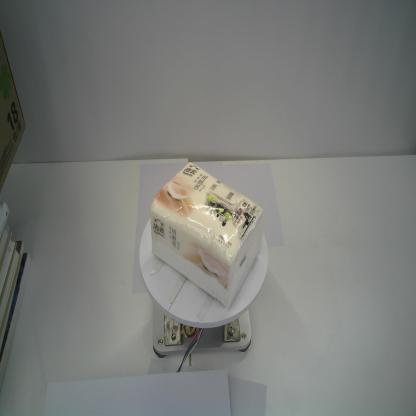Tissue: (148, 161, 266, 310)
